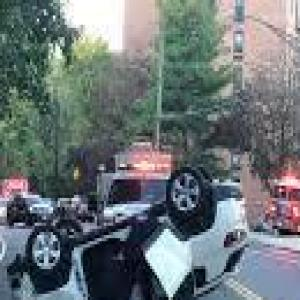critical: (0, 164, 256, 300)
